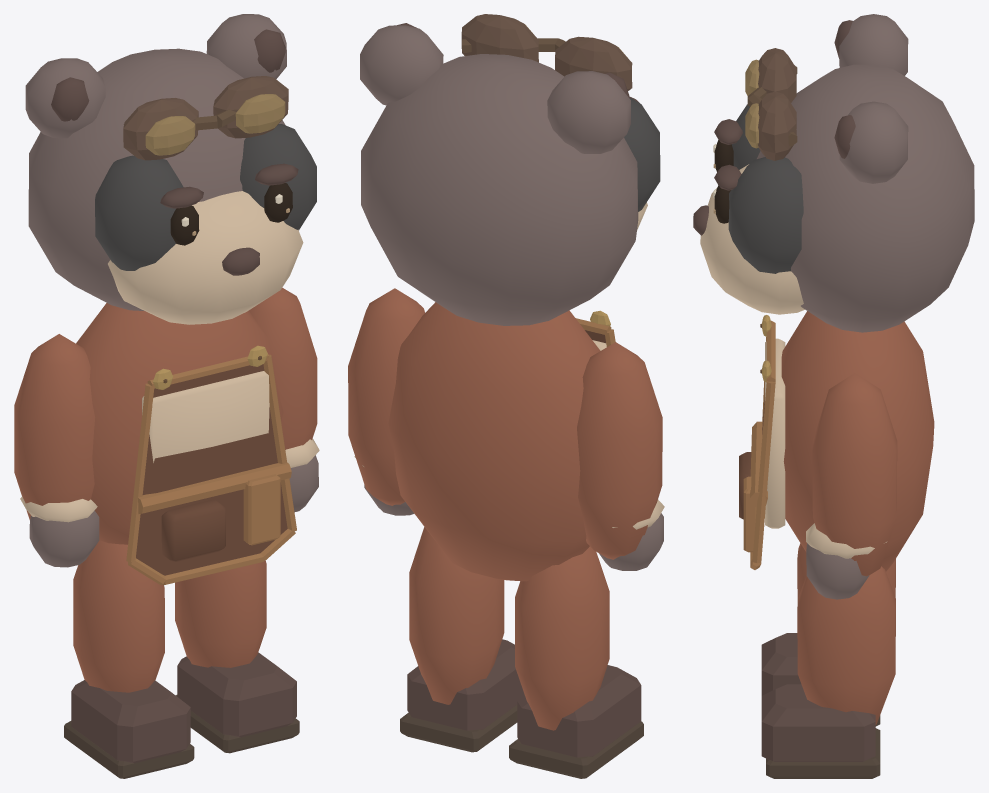
The model's file is npc_runa.glb.
3 views of the same model, side by side, from view 1: azimuth 30°, elevation 25°; view 2: azimuth 150°, elevation 25°; view 3: azimuth 270°, elevation 25° (orthographic). The views are drawn at different scales.
Parts seen in each view (by area): view 1: npc_runa, npc_runa_leg_l, npc_runa_leg_r, npc_runa_arm_l, npc_runa_arm_r, npc_runa_l_eye, npc_runa_r_eye; view 2: npc_runa, npc_runa_leg_l, npc_runa_leg_r, npc_runa_arm_l, npc_runa_arm_r; view 3: npc_runa, npc_runa_leg_r, npc_runa_arm_r, npc_runa_leg_l, npc_runa_r_eye.
Part boxes in pixels (x1,y1,x2,y2): npc_runa: [25, 14, 316, 585]; npc_runa_leg_l: [64, 540, 194, 778]; npc_runa_leg_r: [175, 561, 299, 753]; npc_runa_arm_l: [14, 334, 99, 567]; npc_runa_arm_r: [249, 287, 319, 512]; npc_runa_l_eye: [170, 205, 199, 245]; npc_runa_r_eye: [264, 183, 292, 222]; npc_runa: [360, 14, 660, 581]; npc_runa_leg_l: [509, 546, 643, 778]; npc_runa_leg_r: [400, 527, 524, 752]; npc_runa_arm_l: [577, 342, 664, 570]; npc_runa_arm_r: [348, 288, 424, 515]; npc_runa: [693, 14, 974, 571]; npc_runa_leg_r: [761, 566, 895, 778]; npc_runa_arm_r: [806, 373, 897, 599]; npc_runa_leg_l: [761, 543, 895, 726]; npc_runa_r_eye: [713, 185, 730, 223].
Bounding box in the file's own units: 0.6549 × 1.46 × 0.5516.
